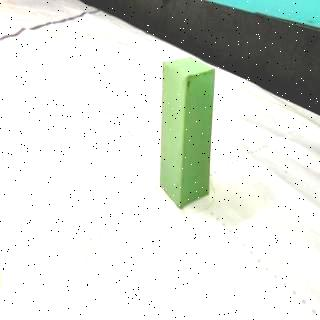greenbox: (160, 56, 217, 210)
